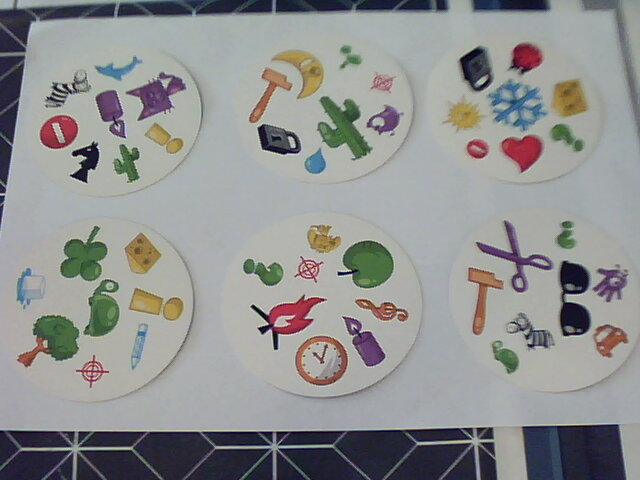arbre: (17, 313, 80, 371)
bougie: (343, 313, 388, 369), (93, 89, 127, 140)
cactus: (316, 94, 375, 161), (112, 142, 143, 184)
cadenas: (456, 43, 496, 94), (254, 122, 306, 159)
chat: (128, 72, 187, 123)
cheval: (69, 141, 102, 186)
chien: (304, 222, 342, 256)
cible: (74, 353, 111, 391), (368, 69, 399, 94)
ciseau: (472, 217, 554, 295)
coccinelle: (505, 41, 546, 79)
coeur: (499, 133, 545, 174)
crayon: (131, 324, 150, 375)
dauphin: (92, 54, 143, 86)
dooble: (592, 260, 631, 306)
feu: (247, 293, 329, 351)
flocon: (489, 77, 547, 133)
fromage: (123, 229, 163, 276), (552, 78, 592, 120)
glacon: (16, 266, 49, 313)
goutte: (301, 146, 330, 177)
horloge: (293, 334, 345, 388)
lune: (268, 47, 327, 100)
lunette: (558, 256, 592, 340)
marteau: (465, 265, 507, 338), (247, 67, 295, 126)
note: (352, 293, 412, 326)
oiseau: (367, 101, 407, 140)
point_exclamation: (127, 287, 185, 323), (144, 121, 185, 157)
point_interrogation: (240, 257, 289, 289), (547, 122, 588, 156), (555, 218, 578, 252)
pomme: (336, 237, 396, 291)
sens_interdit: (40, 113, 79, 151), (464, 136, 491, 161)
soleil: (441, 92, 489, 138)
tache: (338, 47, 364, 75)
tortue: (82, 277, 123, 339), (488, 338, 521, 376)
trefle: (62, 224, 108, 282)
voiture: (588, 320, 632, 362)
zebre: (39, 70, 91, 114), (503, 310, 556, 353)
